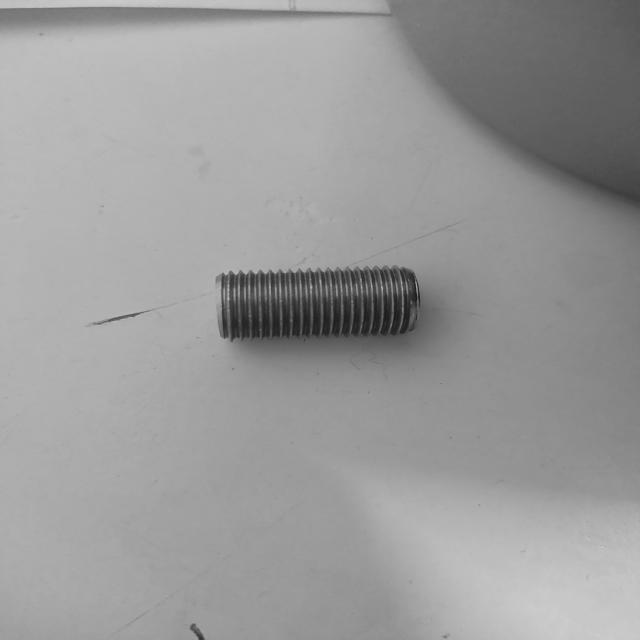Normal: (212, 263, 422, 345)
